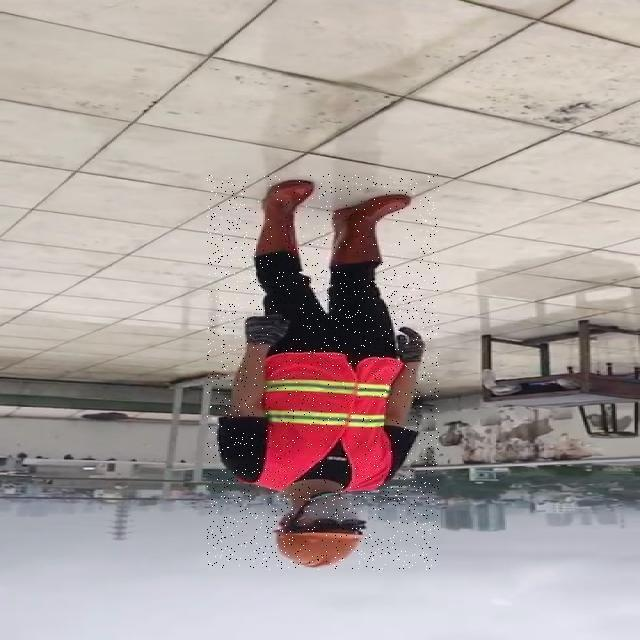Boots: (328, 193, 420, 271), (252, 180, 318, 262)
Gloves: (242, 312, 293, 349), (389, 326, 428, 363)
Helmet: (270, 530, 358, 569)
Vest: (247, 353, 404, 490)
